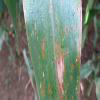Corn Gray leaf spot: (21, 1, 83, 99)
